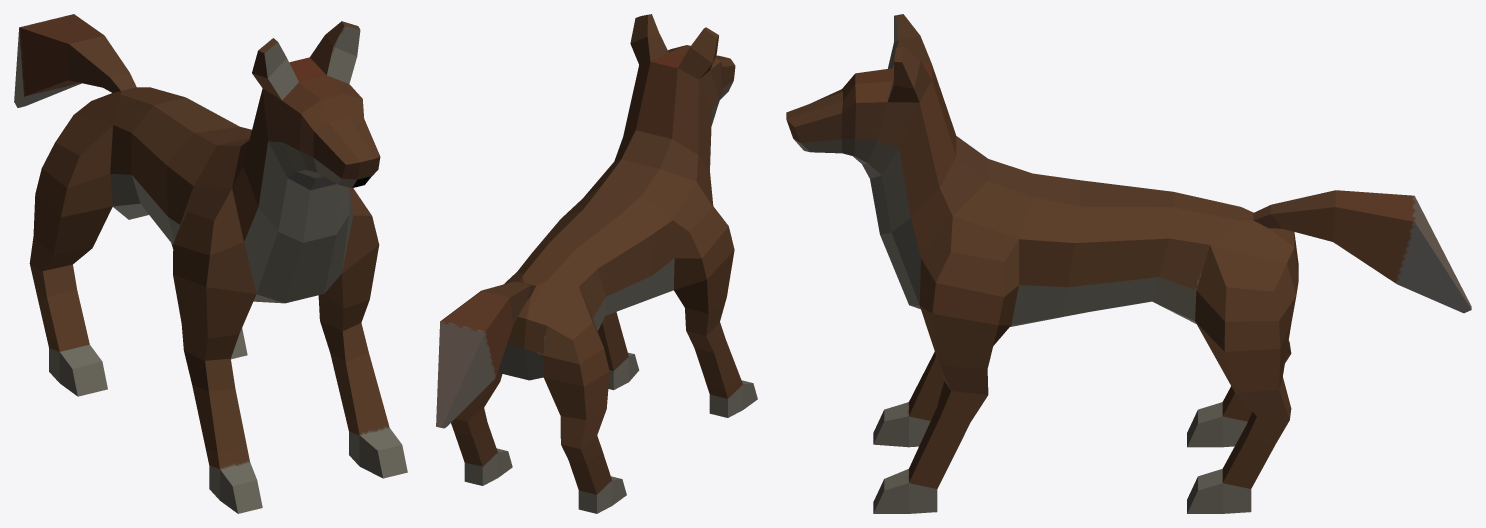
The model's file is low_poly_dog.glb.
3 views of the same model, side by side, from view 1: azimuth 30°, elevation 25°; view 2: azimuth 150°, elevation 25°; view 3: azimuth 270°, elevation 25° (orthographic). The views are drawn at different scales.
Parts seen in each view (by area): view 1: Mesh_LPDog_M_0; view 2: Mesh_LPDog_M_0; view 3: Mesh_LPDog_M_0.
Boxes of the visible parts, x1=… form: Mesh_LPDog_M_0: x1=14, y1=14, x2=407, y2=513; Mesh_LPDog_M_0: x1=436, y1=14, x2=757, y2=513; Mesh_LPDog_M_0: x1=786, y1=14, x2=1471, y2=513.
Bounding box in the file's own units: 575 × 1437 × 2014.
Materials: 1 (1 with a texture image).
